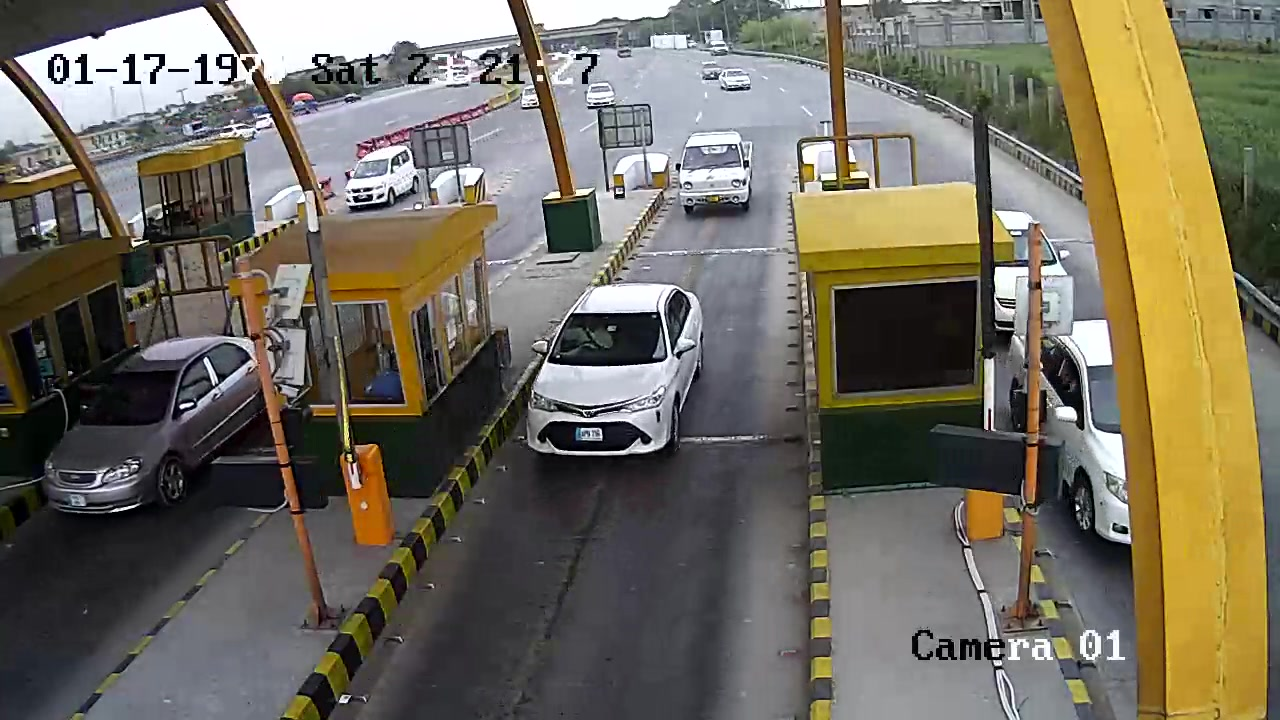F1: (515, 268, 715, 462)
